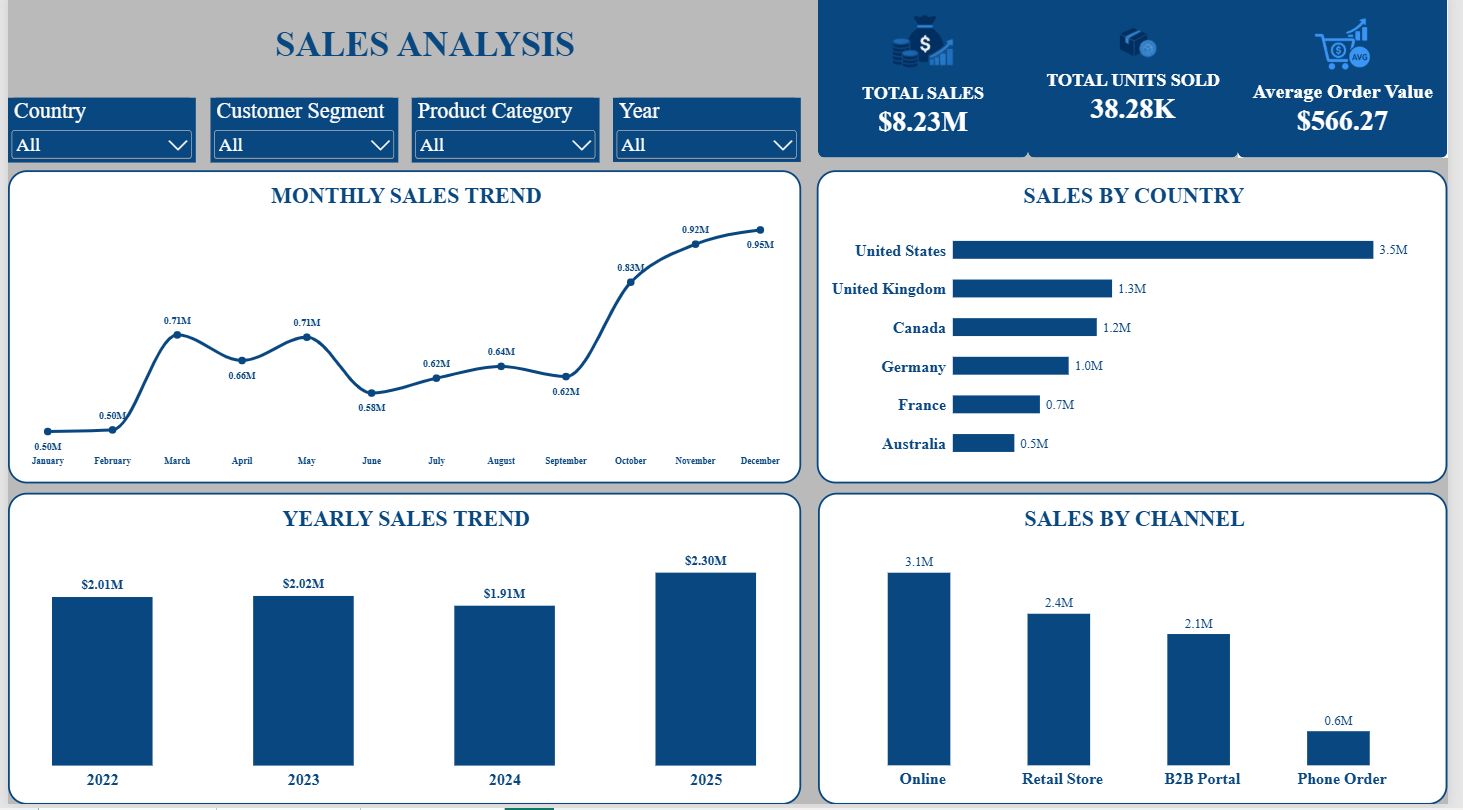

The page's visual inventory and layout, read from the dashboard file:
{"tool":"powerbi","page":{"name":"Sales Analysis","canvas":[1920,1080],"ordinal":1},"visuals":[{"type":"cardVisual","fields":{"Data":["Fact Table.Average Sales"]},"box":[1640.5,0,279.9,218.3],"z":0},{"type":"cardVisual","fields":{"Data":["Fact Table.TOTAL SALES"]},"box":[1080.3,0,280,218],"z":1000},{"type":"cardVisual","fields":{"Data":["Fact Table.TOTAL UNIT SALES"]},"box":[1360.7,0,280,218],"z":2000},{"type":"lineChart","title":"MONTHLY SALES TREND","fields":{"Category":["DIM DATE.Month"],"Y":["Sum(Fact Table.Sales_Amount)"]},"box":[0,234.2,1057.2,417.3],"z":3000},{"type":"clusteredBarChart","title":"SALES BY COUNTRY","fields":{"Category":["DIM REGION.Country"],"Y":["Fact Table.TOTAL SALES"]},"box":[1078.8,234.2,841.2,417.3],"z":4000},{"type":"lineStackedColumnComboChart","title":"YEARLY SALES TREND","fields":{"Category":["DIM DATE.Year"],"Y":["Fact Table.TOTAL SALES"]},"box":[0,664.7,1057.2,416],"z":5000},{"type":"slicer","fields":{"Values":["DIM DATE.Year"]},"box":[807.3,138.6,250,85.5],"z":6000},{"type":"slicer","fields":{"Values":["DIM REGION.Country"]},"box":[0.8,138.6,250,86],"z":7000},{"type":"slicer","fields":{"Values":["DIM PRODUCT.Product_Category"]},"box":[538.5,138.6,250,86],"z":8000},{"type":"slicer","fields":{"Values":["DIM CUSTOMER.Customer_Segment"]},"box":[269.6,138.6,250,86],"z":9000},{"type":"clusteredColumnChart","title":"SALES BY CHANNEL","fields":{"Category":["Fact Table.Sales_Channel"],"Y":["Fact Table.TOTAL SALES"]},"box":[1080.3,664.7,839.5,415.6],"z":10000},{"type":"textbox","box":[125.4,39.6,862.6,69.3],"z":12000}]}

Visuals, with their boxes in screenshot pixels (x1, y1, x2, y2), scaled from the page's 1920x1080 canvas onto the 1463x810 screenshot:
cardVisual - Fact Table.Average Sales: bbox=(1250, 0, 1462, 164)
cardVisual - Fact Table.TOTAL SALES: bbox=(823, 0, 1037, 164)
cardVisual - Fact Table.TOTAL UNIT SALES: bbox=(1037, 0, 1250, 164)
"MONTHLY SALES TREND" lineChart: bbox=(0, 176, 806, 489)
"SALES BY COUNTRY" clusteredBarChart: bbox=(822, 176, 1462, 489)
"YEARLY SALES TREND" lineStackedColumnComboChart: bbox=(0, 499, 806, 809)
slicer - DIM DATE.Year: bbox=(615, 104, 806, 168)
slicer - DIM REGION.Country: bbox=(1, 104, 191, 168)
slicer - DIM PRODUCT.Product_Category: bbox=(410, 104, 601, 168)
slicer - DIM CUSTOMER.Customer_Segment: bbox=(205, 104, 396, 168)
"SALES BY CHANNEL" clusteredColumnChart: bbox=(823, 499, 1462, 809)
textbox: bbox=(96, 30, 753, 82)
